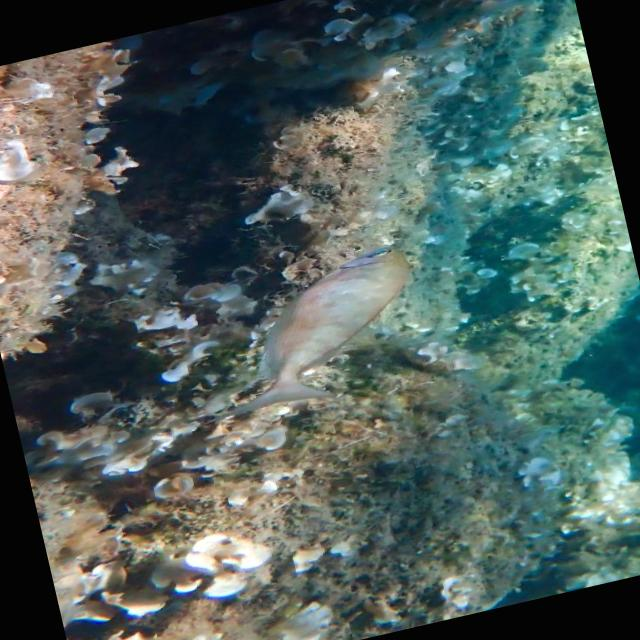Sokar Baligi: (166, 228, 460, 442)
